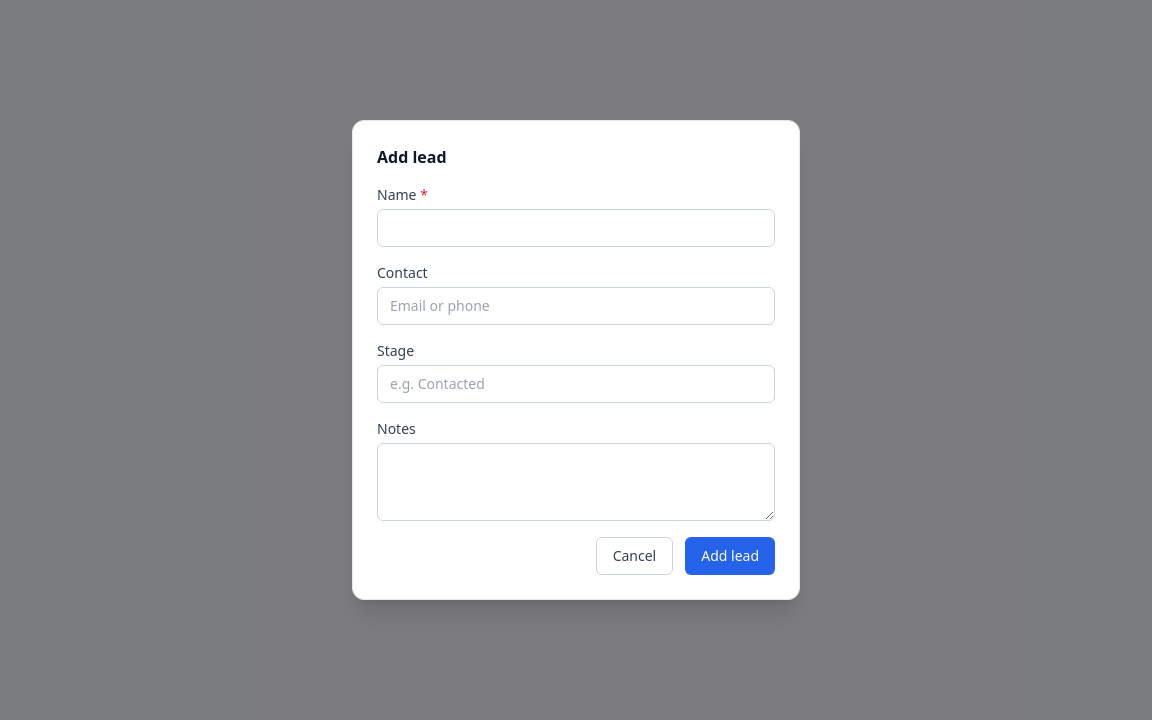
LeadForm › blocks submission and shows an error when name is empty (R19.4)
Click the button "Add lead" at (730, 556), box [685,537,775,575]
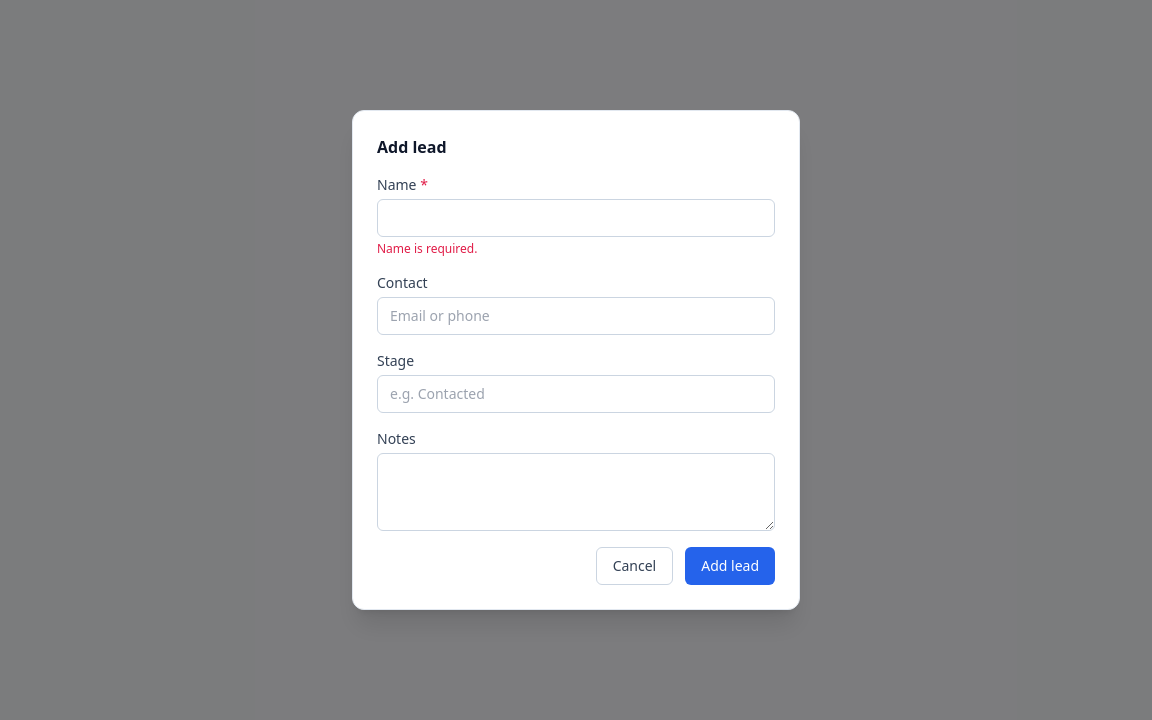
Expected: the message shows "Name is required", [377,240,477,257]
